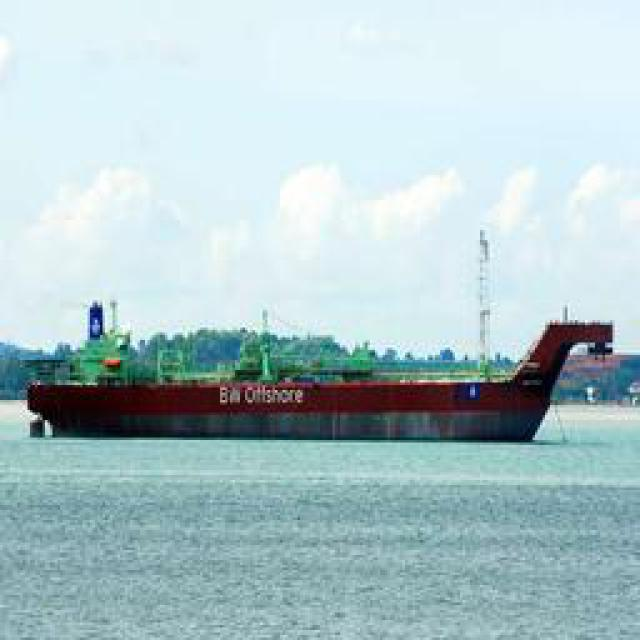Ship: (30, 329, 610, 444)
